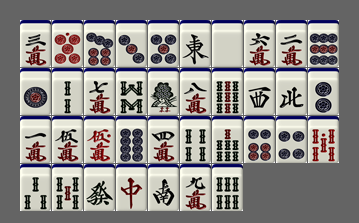0m: (84, 116, 115, 163)
0p: (52, 20, 83, 67)
0s: (308, 116, 339, 163)
1m: (20, 116, 51, 163)
1p: (20, 68, 51, 115)
1s: (148, 68, 179, 115)
1z: (180, 20, 211, 67)
2m: (276, 20, 307, 67)
2p: (308, 68, 339, 115)
2s: (52, 68, 83, 115)
2z: (148, 164, 179, 211)
3m: (20, 20, 51, 67)
3p: (116, 20, 147, 67)
3s: (20, 164, 51, 211)
3z: (244, 68, 275, 115)
4m: (148, 116, 179, 163)
4p: (276, 116, 307, 163)
4s: (180, 116, 211, 163)
4z: (276, 68, 307, 115)
5m: (52, 116, 83, 163)
5p: (148, 20, 179, 67)
5s: (52, 164, 83, 211)
5z: (212, 20, 243, 67)
6m: (244, 20, 275, 67)
6p: (244, 116, 275, 163)
6s: (212, 164, 243, 211)
6z: (84, 164, 115, 211)
7m: (84, 68, 115, 115)
7p: (84, 20, 115, 67)
7s: (212, 116, 243, 163)
7z: (116, 164, 147, 211)
8m: (180, 68, 211, 115)
8p: (116, 116, 147, 163)
8s: (116, 68, 147, 115)
9m: (180, 164, 211, 211)
9p: (308, 20, 339, 67)
9s: (212, 68, 243, 115)
